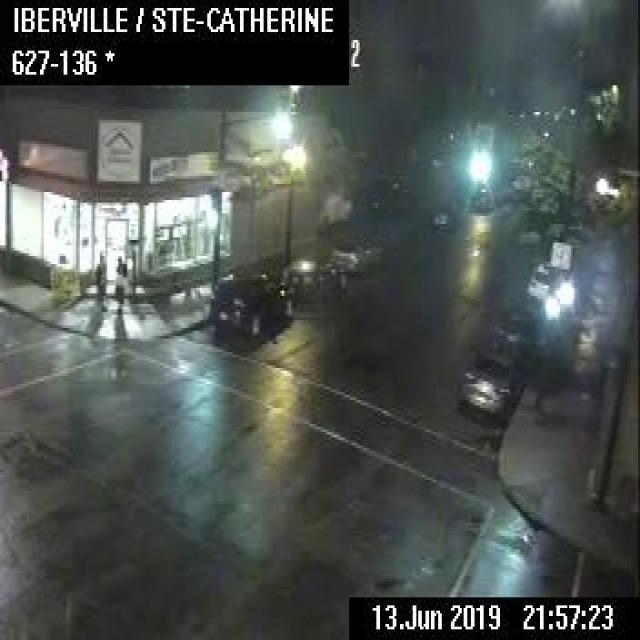pedestrian: (92, 245, 106, 310), (113, 252, 126, 313)
vehicle: (209, 267, 295, 334), (457, 346, 524, 422), (282, 255, 344, 302), (492, 302, 542, 357), (330, 232, 384, 277), (525, 259, 548, 301), (431, 207, 456, 232), (472, 186, 494, 208)
